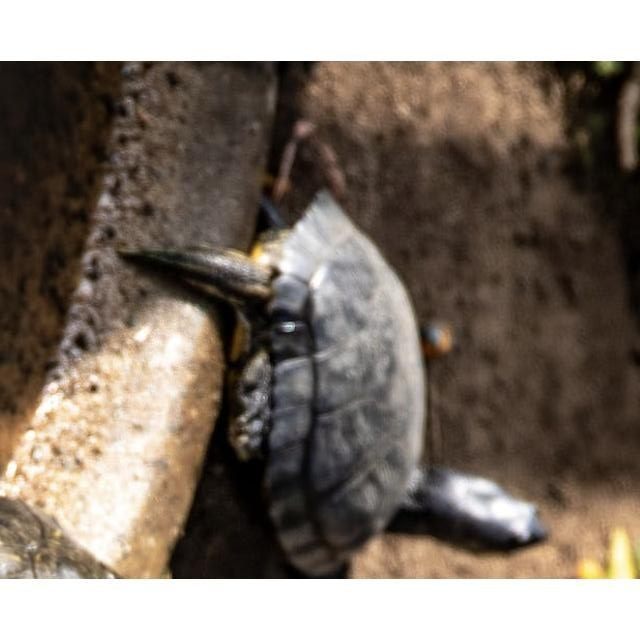turtle: (119, 182, 548, 572)
